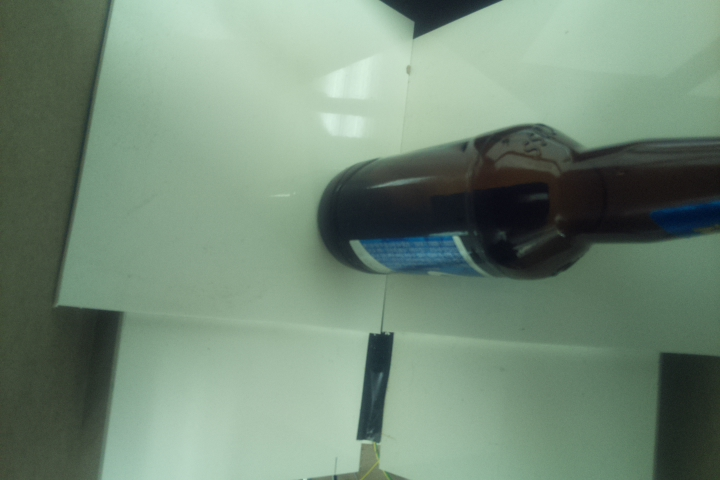makju: (315, 119, 720, 283)
